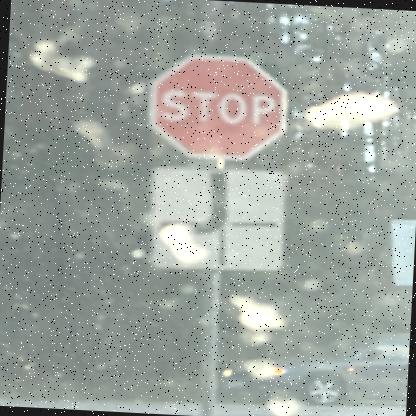stop: (144, 51, 288, 160)
